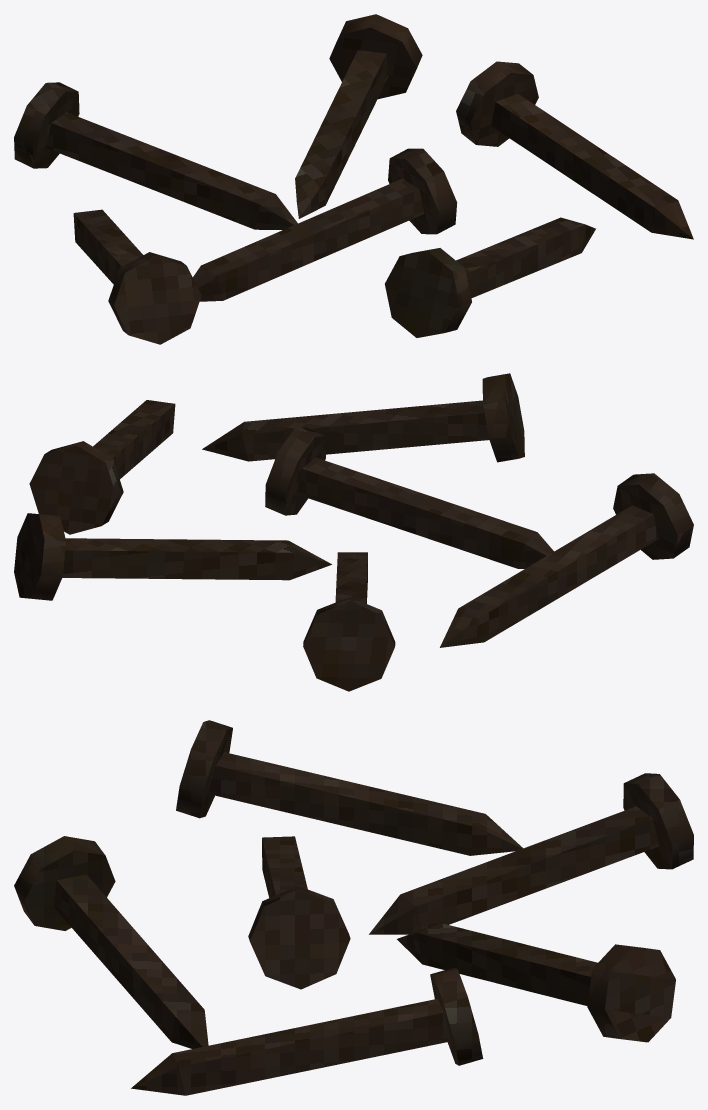
The model's file is nails_1_rusty.glb.
3 renders of one model, top to bottom at view 1: azimuth 30°, elevation 25°; view 2: azimuth 150°, elevation 25°; view 3: azimuth 270°, elevation 25°, orthographic. The views are drawn at different scales.
Visible parts, largest first — view 1: nails_1_rusty; view 2: nails_1_rusty; view 3: nails_1_rusty.
Part boxes in pixels (x1,y1,x2,y2): nails_1_rusty: [14, 14, 693, 344]; nails_1_rusty: [14, 373, 693, 691]; nails_1_rusty: [14, 720, 693, 1095].
Size of the model in its own units: 0.1405 by 0.0211 by 0.1348.
1 material, 1 textured.
